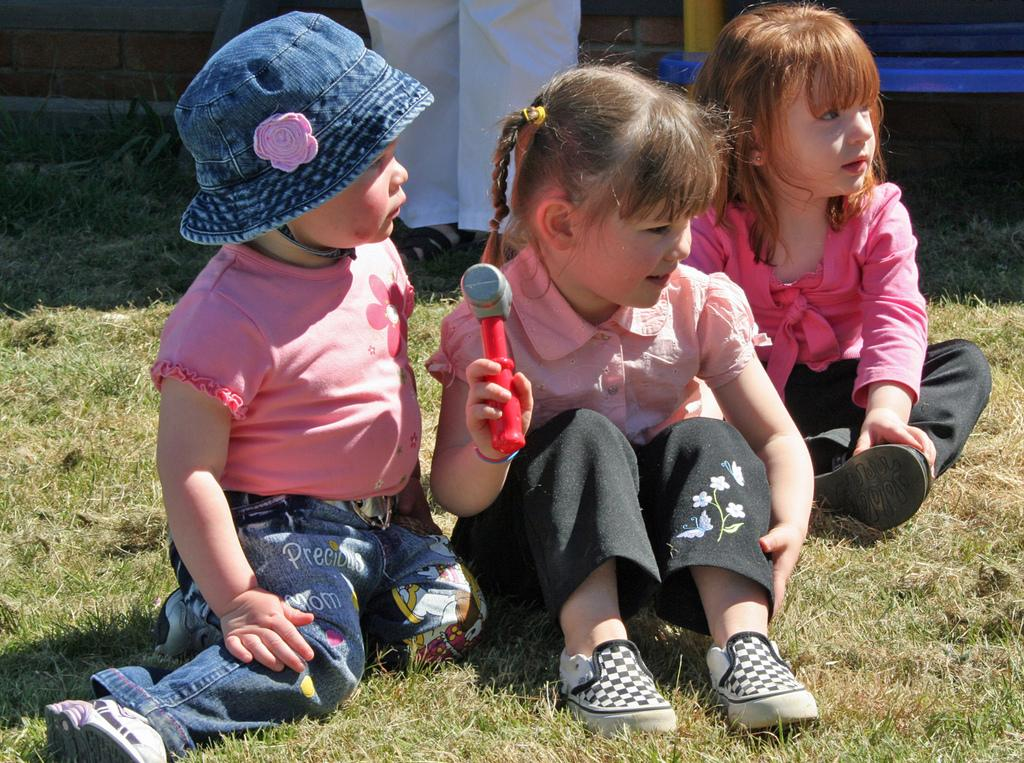Hat: (174, 11, 434, 246)
